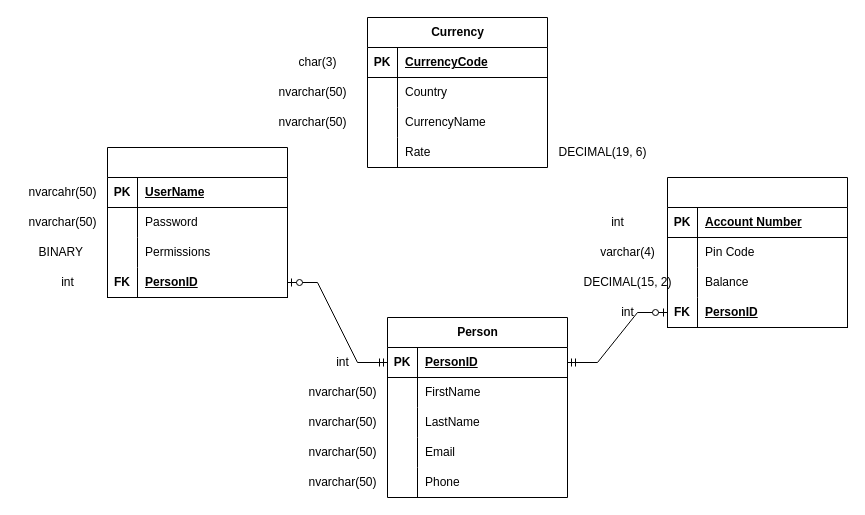
This 865x515 diagram has some shape labels left out. Each missing label, with the box of its shape:
Client: (666, 176, 848, 328)
UserAccounts: (106, 146, 288, 298)
